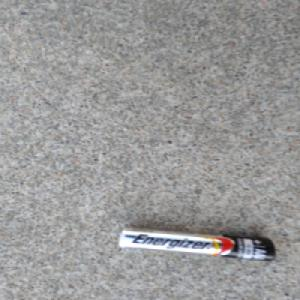Battery: (115, 223, 276, 262)
